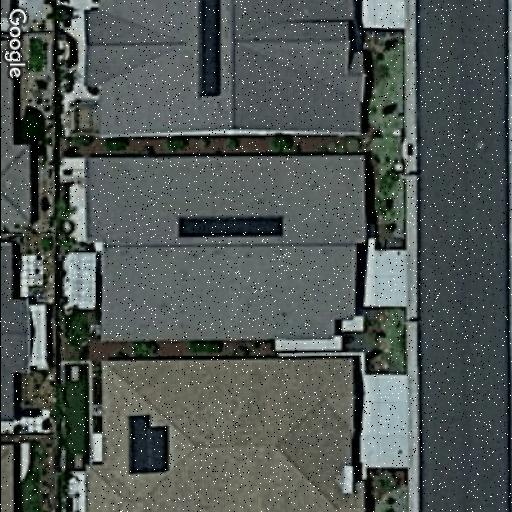solar-panel: (174, 214, 286, 242), (124, 414, 170, 476), (194, 0, 222, 101)
